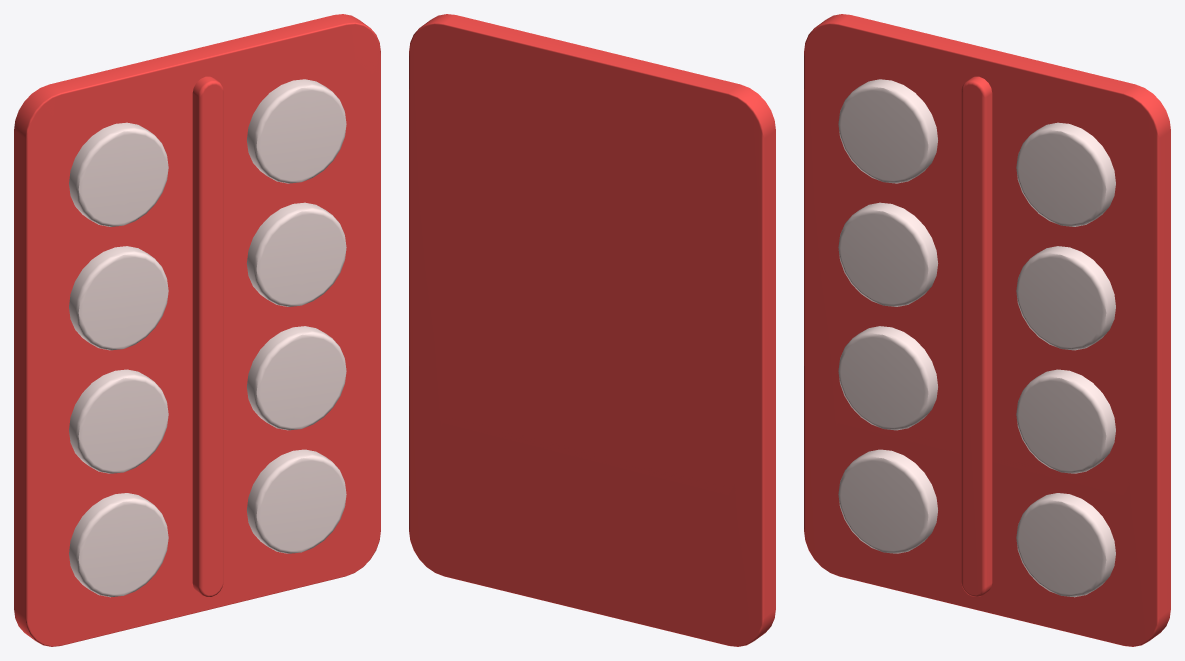
File: Store_15_Pill_Pack_4.glb
The picture shows the model from 3 angles, left to right: view 1: azimuth 30°, elevation 25°; view 2: azimuth 150°, elevation 25°; view 3: azimuth 330°, elevation 25°; orthographic projection.
Parts seen in each view (by area): view 1: Store_15_Pill_Pack_4; view 2: Store_15_Pill_Pack_4; view 3: Store_15_Pill_Pack_4.
Boxes of the visible parts, left/top/right/bottom form: Store_15_Pill_Pack_4: left=14, top=14, right=380, bottom=646; Store_15_Pill_Pack_4: left=409, top=14, right=775, bottom=646; Store_15_Pill_Pack_4: left=804, top=14, right=1170, bottom=646.
Size of the model in its own units: 2.66 by 3.95 by 0.291.
1 material, 1 textured.
